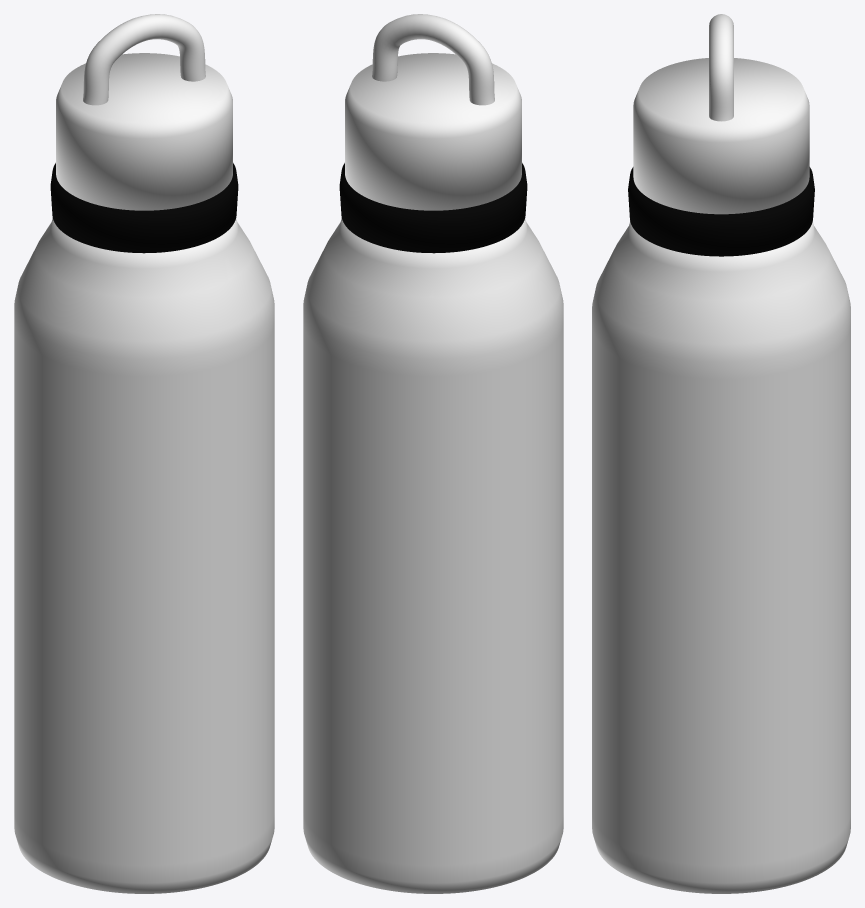
Rendered from tumbler.glb.
3 renders of one model, left to right at view 1: azimuth 30°, elevation 25°; view 2: azimuth 150°, elevation 25°; view 3: azimuth 270°, elevation 25°, orthographic.
Parts seen in each view (by area): view 1: tumbler, lid, ring, loop; view 2: tumbler, lid, ring, loop; view 3: tumbler, lid, ring, loop.
Part boxes in pixels (box(x1,y1,x2,y2)): tumbler: box(14, 218, 274, 893); lid: box(56, 53, 232, 210); ring: box(50, 163, 238, 253); loop: box(83, 14, 205, 105); tumbler: box(303, 218, 563, 893); lid: box(345, 53, 521, 210); ring: box(339, 163, 527, 253); loop: box(372, 14, 494, 105); tumbler: box(592, 221, 850, 893); lid: box(633, 58, 809, 214); ring: box(628, 167, 814, 256); loop: box(709, 14, 733, 121).
Bounding box in the file's own units: 0.072 × 0.2528 × 0.072.
Materials: 5 (5 with a texture image).
